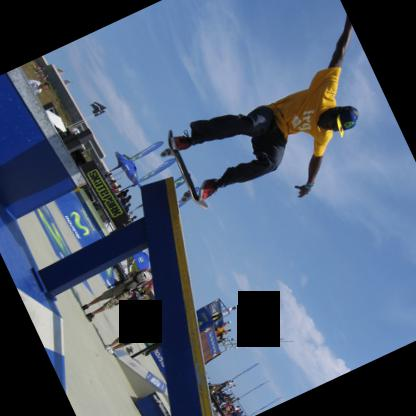backpack: (120, 270, 151, 293)
